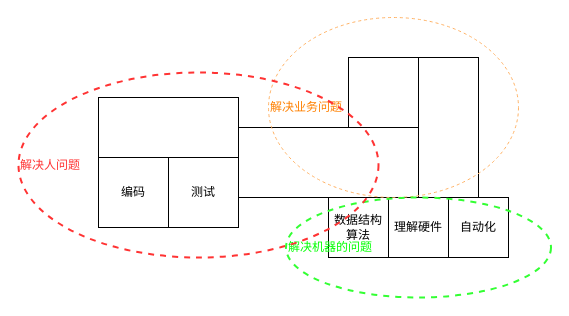
The diagram is 569 pixels wide and 316 high, and some of its shapes have lost their labels. The centre of each missing label's shape, as x and y in pixels:
"业务逻辑" goes at point 383,92.
"复杂度管理" goes at point 328,162.
"机器学习" goes at point 448,127.
"项目管理" goes at point 168,127.
